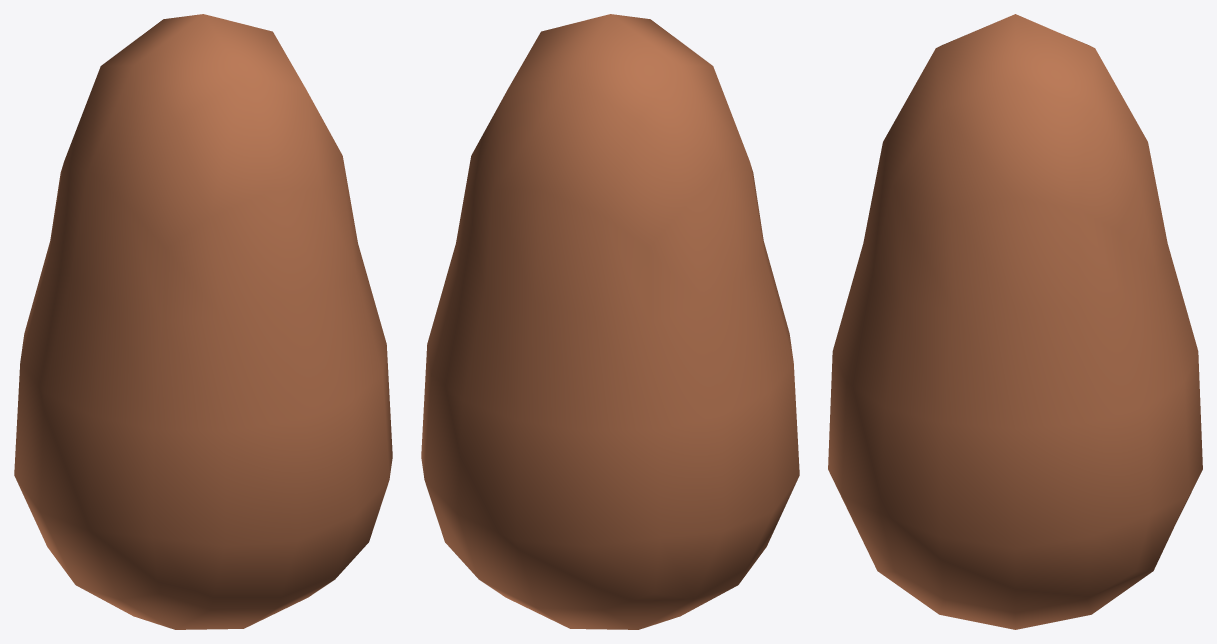
The model's file is potato.glb.
3 renders of one model, left to right at view 1: azimuth 30°, elevation 25°; view 2: azimuth 150°, elevation 25°; view 3: azimuth 270°, elevation 25°, orthographic.
Parts seen in each view (by area): view 1: Cube.014; view 2: Cube.014; view 3: Cube.014.
Boxes of the visible parts, x1,y1,x2,y2 form: Cube.014: (14, 14, 392, 629); Cube.014: (421, 14, 799, 629); Cube.014: (828, 14, 1202, 629).
Bounding box in the file's own units: 0.0604 × 0.106 × 0.0604.
1 material, 1 textured.
